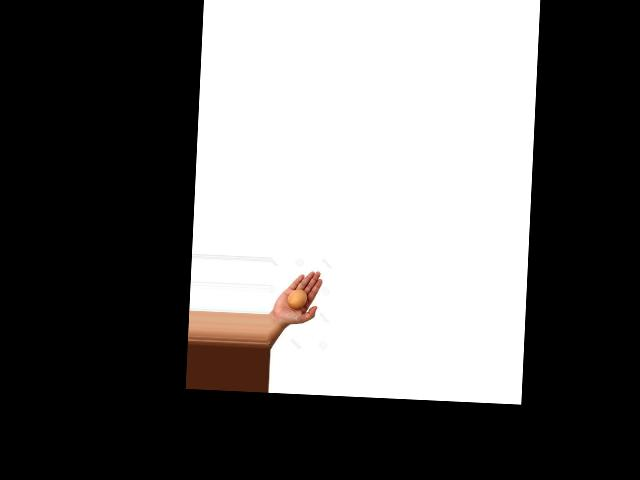egg: (286, 289, 306, 310)
